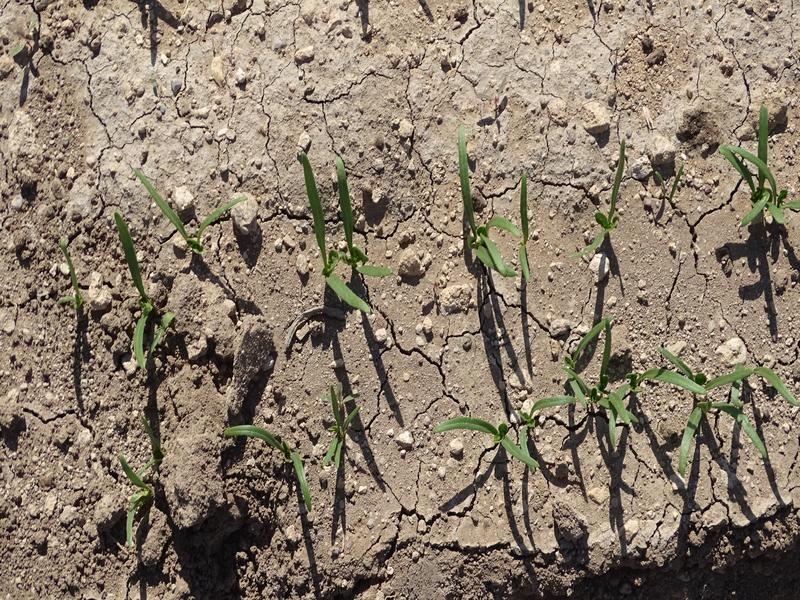Espinaca: (551, 320, 792, 463), (293, 149, 390, 306), (454, 139, 536, 281), (711, 104, 797, 230), (433, 396, 567, 468), (226, 422, 325, 511), (114, 212, 169, 365), (146, 173, 238, 248), (588, 141, 632, 259), (324, 394, 364, 468)
